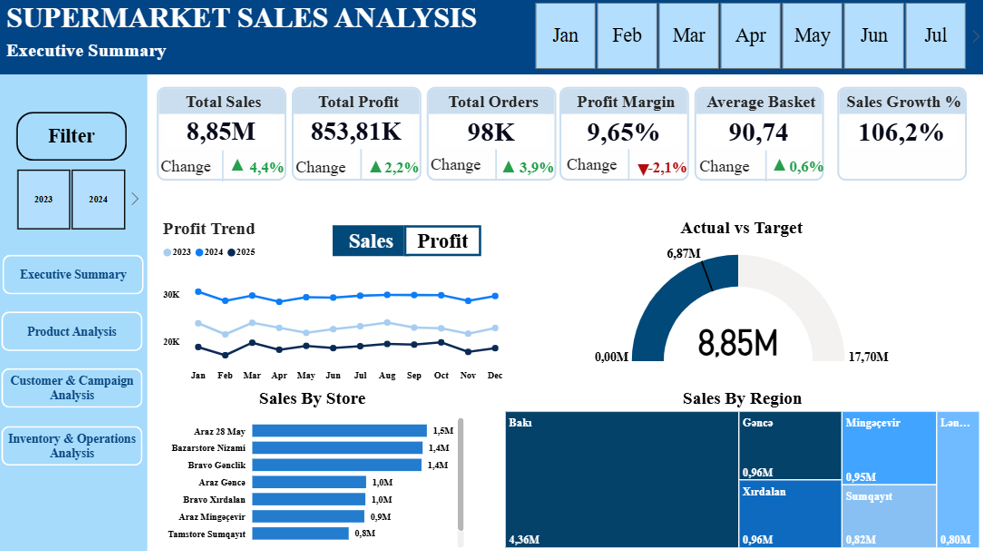

The dashboard page shown, as its layout file describes it:
{"tool":"powerbi","page":{"name":"Executive Summary","canvas":[1280,720],"ordinal":0},"visuals":[{"type":"shape","box":[0,0,1280,100],"z":0},{"type":"textbox","box":[6.7,0,653.3,55],"z":1000},{"type":"shape","box":[0,100,195,620],"z":2000},{"type":"cardVisual","title":"Total Sales","fields":{"Data":["Ölçülər.Total Sales"]},"box":[206.7,116.7,168.3,121.7],"z":3000},{"type":"cardVisual","fields":{"Data":["Ölçülər.Satiş dəyişim %"]},"box":[298.3,185,113.3,68.3],"z":4000},{"type":"cardVisual","fields":{"Data":["Ölçülər.İkon satis"]},"box":[271.7,191.7,83.3,51.7],"z":5000},{"type":"textbox","box":[206.7,201.7,110,46.7],"z":6000},{"type":"shape","box":[271.7,198.3,41.7,40],"z":7000},{"type":"cardVisual","title":"Total Profit","fields":{"Data":["Ölçülər.Total Profit"]},"box":[381.7,116.7,168.3,121.7],"z":8000},{"type":"cardVisual","title":"Total Orders","fields":{"Data":["Ölçülər.Total orders"]},"box":[556.7,116.7,168.3,121.7],"z":9000},{"type":"cardVisual","title":"Profit Margin ","fields":{"Data":["Ölçülər.Profit margin %"]},"box":[730,116.7,168.3,121.7],"z":10000},{"type":"cardVisual","title":"Average Basket","fields":{"Data":["Ölçülər.Average Basket"]},"box":[905,116.7,168.3,121.7],"z":11000},{"type":"cardVisual","title":"Sales Growth %","fields":{"Data":["Ölçülər.Sales Growth %"]},"box":[1090,116.7,168.3,121.7],"z":12000},{"type":"textbox","box":[381.7,203.3,148.3,40],"z":13000},{"type":"shape","box":[465,196.7,15,40],"z":14000},{"type":"cardVisual","fields":{"Data":["Ölçülər.Menfeet %"]},"box":[473.3,186.7,110,65],"z":15000},{"type":"cardVisual","fields":{"Data":["Ölçülər.İkon menfeet"]},"box":[451.7,190,83.3,60],"z":16000},{"type":"cardVisual","fields":{"Data":["Ölçülər.Orders %"]},"box":[648.3,188.3,110,63.3],"z":17000},{"type":"cardVisual","fields":{"Data":["Ölçülər.İkon order"]},"box":[623.3,191.7,81.7,56.7],"z":18000},{"type":"shape","box":[640,196.7,15,40],"z":19000},{"type":"textbox","box":[556.7,200,108.3,46.7],"z":20000},{"type":"cardVisual","fields":{"Data":["Ölçülər.Average Basket %"]},"box":[998.3,188.3,116.7,60],"z":21000},{"type":"textbox","box":[906,202,124,46],"z":22000},{"type":"cardVisual","fields":{"Data":["Ölçülər.İkon basket"]},"box":[975,191.7,81.7,51.7],"z":23000},{"type":"shape","box":[976.7,198.3,41.7,40],"z":24000},{"type":"cardVisual","fields":{"Data":["Ölçülər.Profit margin % deyisimi"]},"box":[815,188.3,110,63.3],"z":25000},{"type":"cardVisual","fields":{"Data":["Ölçülər.İkon profit margin %"]},"box":[798.3,195,83.3,56.7],"z":26000},{"type":"textbox","box":[733.3,200,106.7,45],"z":27000},{"type":"shape","box":[798.3,196.7,41.7,40],"z":28000},{"type":"slicer","fields":{"Values":["DimDate.MonthName"]},"box":[671.7,0,608.3,100],"z":29000},{"type":"actionButton","box":[25,148.3,143.3,63.3],"z":30000},{"type":"actionButton","box":[7.1,334.3,182.9,51.4],"z":31000},{"type":"actionButton","box":[5.7,407.1,182.9,51.4],"z":32000},{"type":"actionButton","box":[5.7,481.4,182.9,51.4],"z":33000},{"type":"actionButton","box":[5.7,555.7,182.9,51.4],"z":34000},{"type":"lineChart","title":"Profit Trend","fields":{"Y":["Ölçülər.Total Profit"],"Category":["DimDate.MonthName"],"Series":["DimDate.Year"]},"box":[210,286.7,455,218.3],"z":36000},{"type":"actionButton","box":[435,295,100,40],"z":37000},{"type":"actionButton","box":[528.3,295,100,40],"z":38000},{"type":"gauge","title":"Actual vs Target","fields":{"Y":["Ölçülər.Total Sales"],"TargetValue":["Ölçülər.Total Target"]},"box":[733.3,285,463.3,196.7],"z":39000},{"type":"clusteredBarChart","title":"Sales By Store","fields":{"Category":["DimStore.StoreName"],"Y":["Ölçülər.Total Sales"]},"box":[206.7,506.7,403.3,211.7],"z":40000},{"type":"treemap","title":"Sales By Region","fields":{"Group":["DimStore.City"],"Values":["Ölçülər.Total Sales"]},"box":[655,506.7,625,211.7],"z":41000},{"type":"textbox","box":[6.7,50,300,48.3],"z":42000},{"type":"slicer","fields":{"Values":["DimDate.Year"]},"box":[0,216.7,190,91.7],"z":43000}]}

Visuals, with their boxes in screenshot pixels (x1, y1, x2, y2), scaled from the page's 1280x720 canvas onto the 983x551 screenshot:
shape: [x1=0, y1=0, x2=982, y2=77]
textbox: [x1=5, y1=0, x2=507, y2=42]
shape: [x1=0, y1=77, x2=150, y2=550]
"Total Sales" cardVisual: [x1=159, y1=89, x2=288, y2=182]
cardVisual - Ölçülər.Satiş dəyişim %: [x1=229, y1=142, x2=316, y2=194]
cardVisual - Ölçülər.İkon satis: [x1=209, y1=147, x2=273, y2=186]
textbox: [x1=159, y1=154, x2=243, y2=190]
shape: [x1=209, y1=152, x2=241, y2=182]
"Total Profit" cardVisual: [x1=293, y1=89, x2=422, y2=182]
"Total Orders" cardVisual: [x1=428, y1=89, x2=557, y2=182]
"Profit Margin " cardVisual: [x1=561, y1=89, x2=690, y2=182]
"Average Basket" cardVisual: [x1=695, y1=89, x2=824, y2=182]
"Sales Growth %" cardVisual: [x1=837, y1=89, x2=966, y2=182]
textbox: [x1=293, y1=156, x2=407, y2=186]
shape: [x1=357, y1=151, x2=369, y2=181]
cardVisual - Ölçülər.Menfeet %: [x1=363, y1=143, x2=448, y2=193]
cardVisual - Ölçülər.İkon menfeet: [x1=347, y1=145, x2=411, y2=191]
cardVisual - Ölçülər.Orders %: [x1=498, y1=144, x2=582, y2=193]
cardVisual - Ölçülər.İkon order: [x1=479, y1=147, x2=541, y2=190]
shape: [x1=492, y1=151, x2=503, y2=181]
textbox: [x1=428, y1=153, x2=511, y2=189]
cardVisual - Ölçülər.Average Basket %: [x1=767, y1=144, x2=856, y2=190]
textbox: [x1=696, y1=155, x2=791, y2=190]
cardVisual - Ölçülər.İkon basket: [x1=749, y1=147, x2=812, y2=186]
shape: [x1=750, y1=152, x2=782, y2=182]
cardVisual - Ölçülər.Profit margin % deyisimi: [x1=626, y1=144, x2=710, y2=193]
cardVisual - Ölçülər.İkon profit margin %: [x1=613, y1=149, x2=677, y2=193]
textbox: [x1=563, y1=153, x2=645, y2=187]
shape: [x1=613, y1=151, x2=645, y2=181]
slicer - DimDate.MonthName: [x1=516, y1=0, x2=982, y2=77]
actionButton: [x1=19, y1=113, x2=129, y2=162]
actionButton: [x1=5, y1=256, x2=146, y2=295]
actionButton: [x1=4, y1=312, x2=145, y2=351]
actionButton: [x1=4, y1=368, x2=145, y2=408]
actionButton: [x1=4, y1=425, x2=145, y2=465]
"Profit Trend" lineChart: [x1=161, y1=219, x2=511, y2=386]
actionButton: [x1=334, y1=226, x2=411, y2=256]
actionButton: [x1=406, y1=226, x2=483, y2=256]
"Actual vs Target" gauge: [x1=563, y1=218, x2=919, y2=369]
"Sales By Store" clusteredBarChart: [x1=159, y1=388, x2=468, y2=550]
"Sales By Region" treemap: [x1=503, y1=388, x2=982, y2=550]
textbox: [x1=5, y1=38, x2=236, y2=75]
slicer - DimDate.Year: [x1=0, y1=166, x2=146, y2=236]
